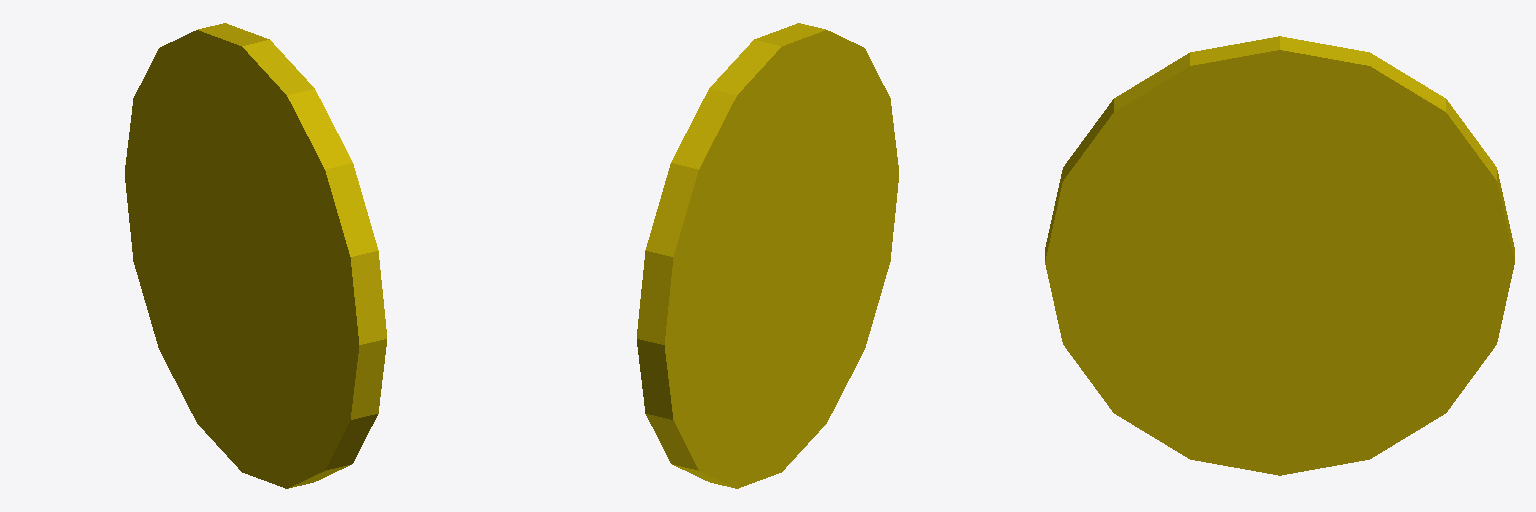
File: coin.obj
3 views of the same model, side by side, from view 1: azimuth 30°, elevation 25°; view 2: azimuth 150°, elevation 25°; view 3: azimuth 270°, elevation 25° (orthographic).
Parts seen in each view (by area): view 1: Cylinder; view 2: Cylinder; view 3: Cylinder.
Boxes of the visible parts, box(x1,y1,x2,y2) form: Cylinder: box(125, 23, 386, 488); Cylinder: box(637, 23, 898, 488); Cylinder: box(1045, 36, 1514, 475).
Size of the model in its own units: 0.1377 by 2 by 2.